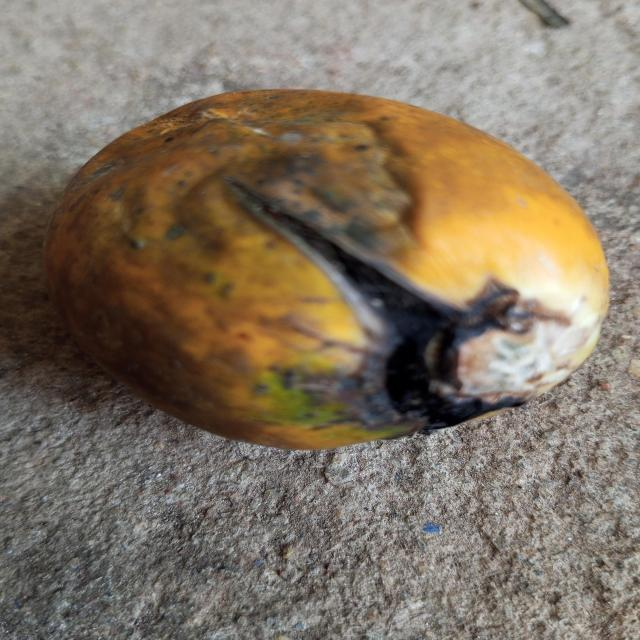damaged: (43, 89, 611, 454)
